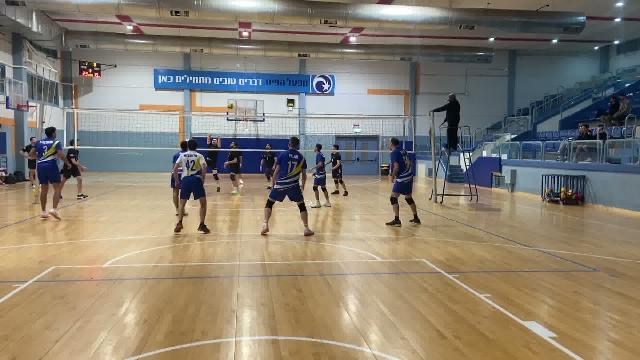ball: (229, 103, 237, 111)
